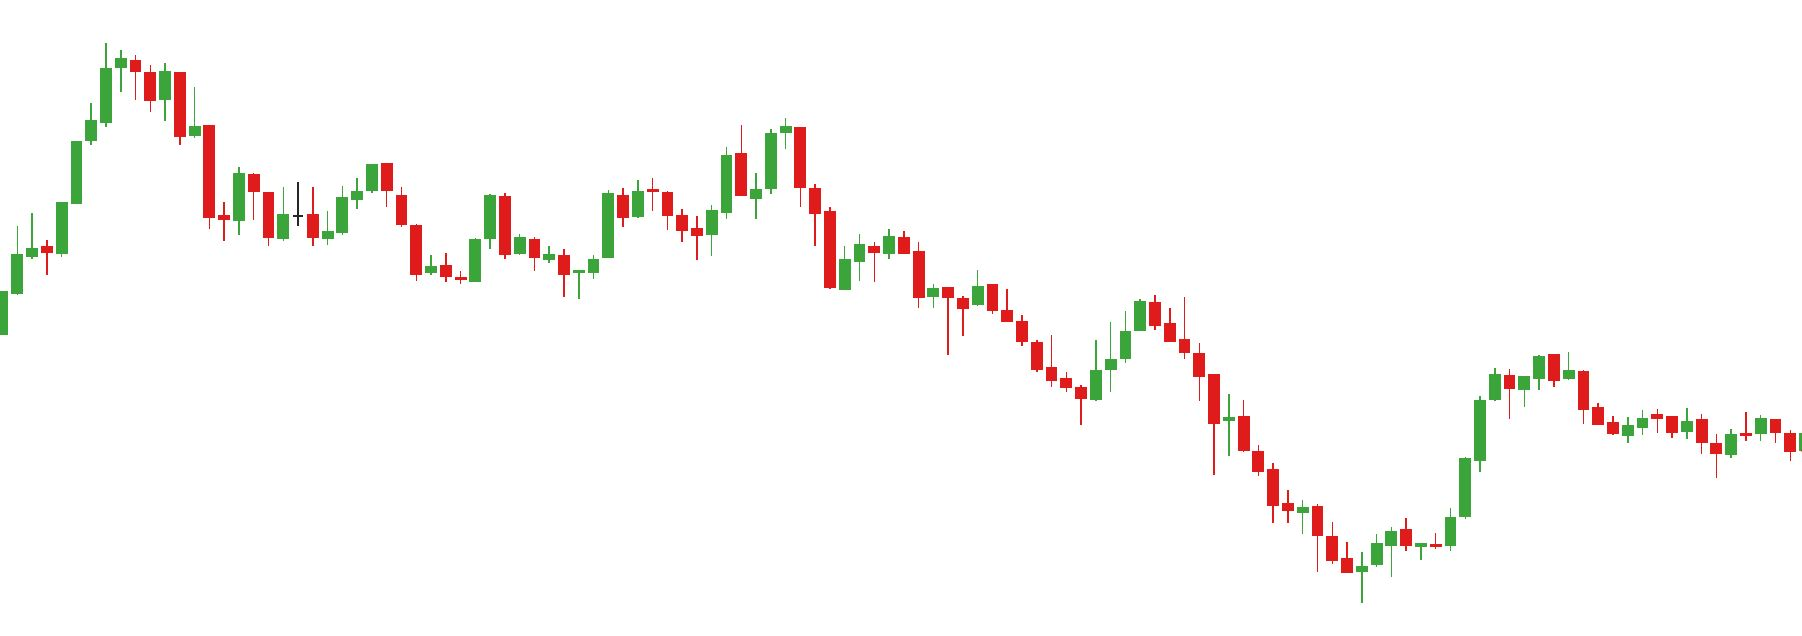sell: (228, 160, 394, 228)
